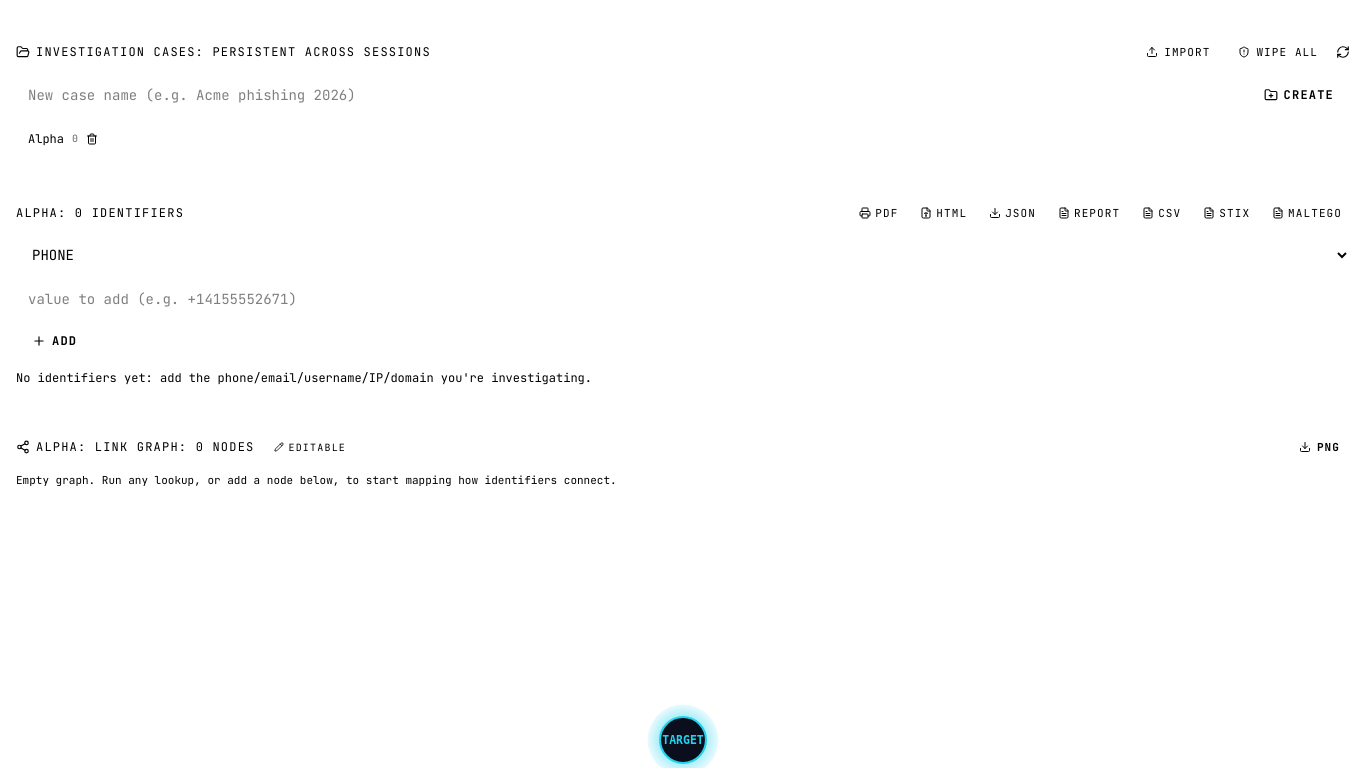
it: <CasesPanel> loading + list › selects the first case on load and refreshes on demand
Expected: the text "Alpha: 0 identifiers" is shown, [16,204,184,222]
Click the button named "refresh". click: [1343, 52]
box: [1336,45,1350,59]
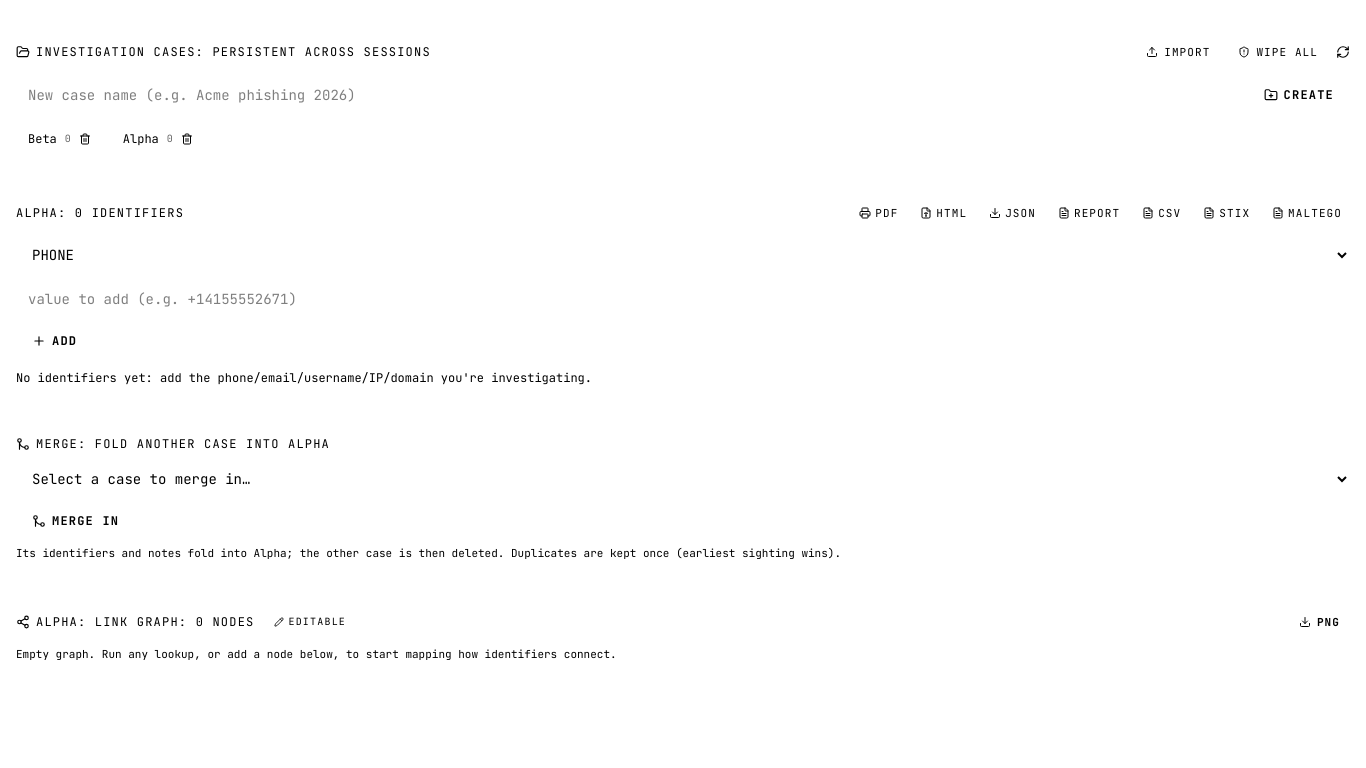
Expected: the button "Beta 0" is shown, [16,124,103,152]
